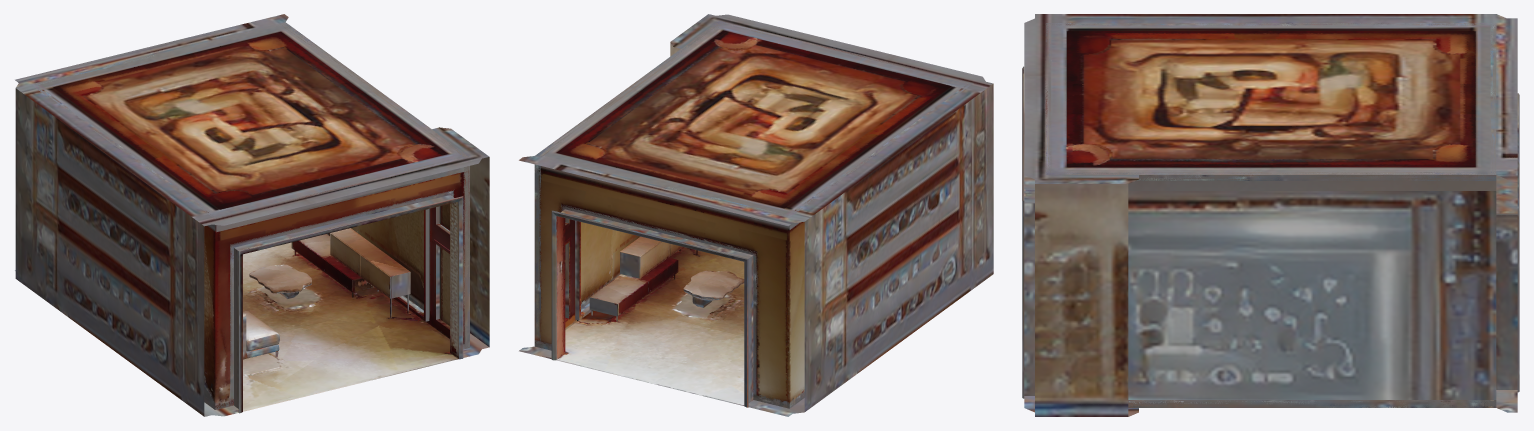
The model's file is 19_post.obj.
3 views of the same model, side by side, from view 1: azimuth 30°, elevation 25°; view 2: azimuth 150°, elevation 25°; view 3: azimuth 270°, elevation 25° (orthographic). The views are drawn at different scales.
Bounding box in the file's own units: 0.8093 × 0.5175 × 1.
Materials: 1 (1 with a texture image).
